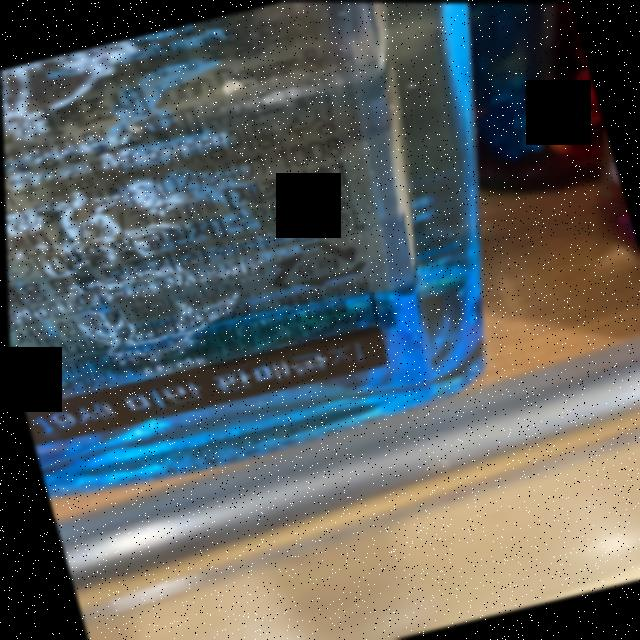Glass: (259, 227, 369, 299)
